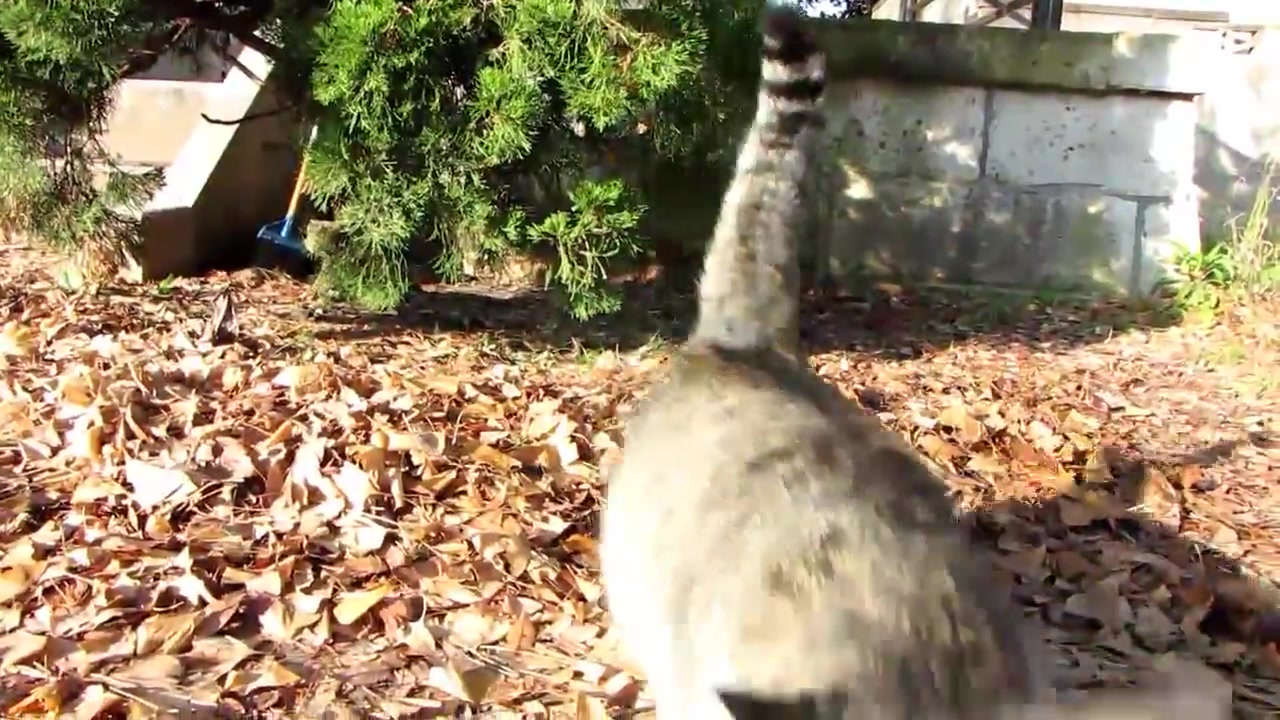cat: (593, 8, 1234, 720)
